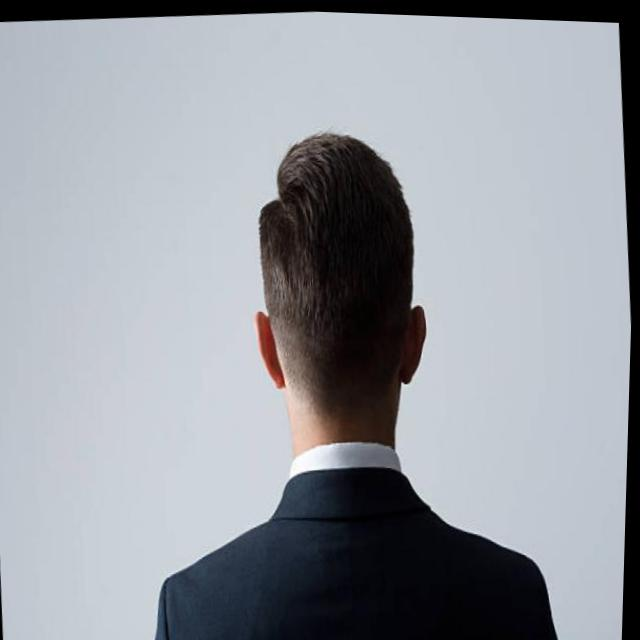no helmet: (240, 123, 444, 458)
